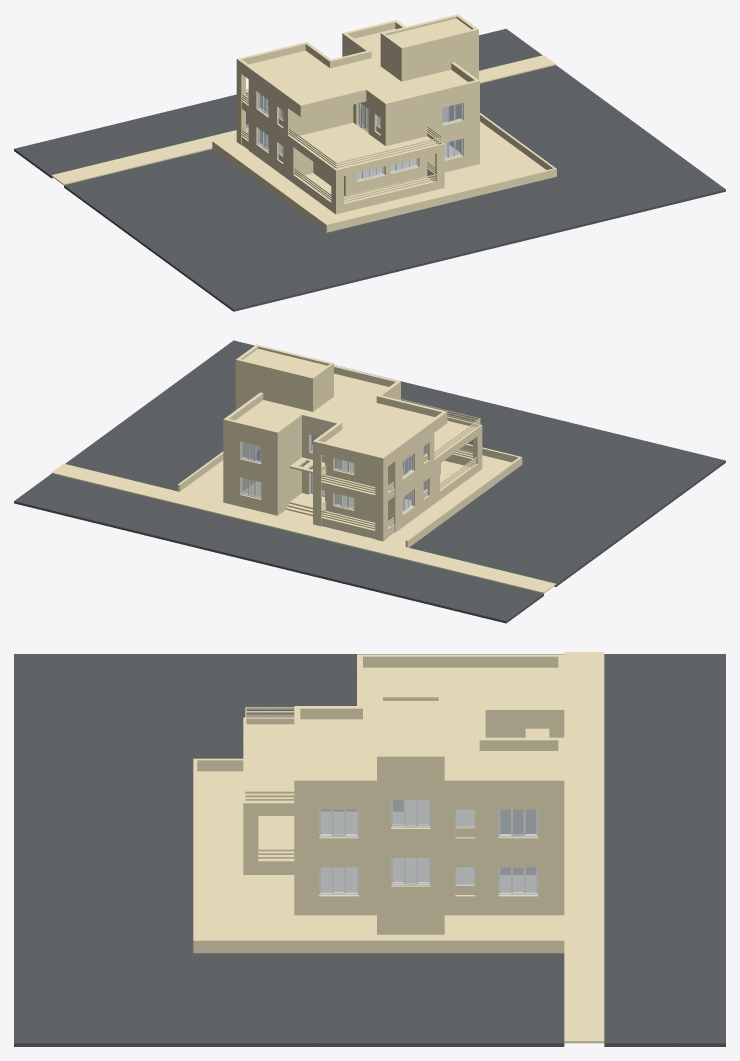
3 renders of one model, top to bottom at view 1: azimuth 30°, elevation 25°; view 2: azimuth 150°, elevation 25°; view 3: azimuth 270°, elevation 25°, orthographic. The views are drawn at different scales.
Parts seen in each view (by area): view 1: 40365, 36610, 40138, 47202, 35931, 35419, 36119, 40057, 38283, 38198, 36943; view 2: 40365, 47202, 36610, 40057, 35419, 35931, 40138, 36119, 38198, 36943, 36928, 38283 (+3 smaller); view 3: 40365, 47202, 36610, 40138, 35419, 40057, 35931, 36119, 38198, 38283, 42896, 43421 (+5 smaller).
Part boxes in pixels (x1,y1,x2,y2): 40365: (64,65,725,311); 36610: (236,14,479,117); 40138: (212,113,556,232); 47202: (14,28,542,178); 35931: (248,40,479,145); 35419: (248,104,479,196); 36119: (288,122,444,177); 40057: (51,55,556,184); 38283: (298,173,436,212); 38198: (387,18,471,46); 36943: (236,71,245,145); 40365: (65,340,725,586); 47202: (14,473,543,623); 36610: (223,344,447,469); 40057: (51,463,556,593); 35419: (223,435,440,532); 35931: (223,388,434,491); 40138: (177,443,522,547); 36119: (434,416,482,467); 38198: (243,349,327,376); 36943: (375,467,387,541); 36928: (313,453,321,526); 38283: (440,454,472,489); 40365: (14,654,564,1046); 47202: (604,654,725,1046); 36610: (294,654,564,810); 40138: (193,758,564,953); 35419: (294,800,564,934); 40057: (564,652,604,1043); 35931: (294,720,564,868); 36119: (243,717,294,815); 38198: (383,701,438,753); 38283: (258,816,294,859); 42896: (498,809,538,837); 43421: (319,809,358,837).
Size of the model in its own units: 46.2 by 10.15 by 35.7.
1675 materials, 20 textured.
